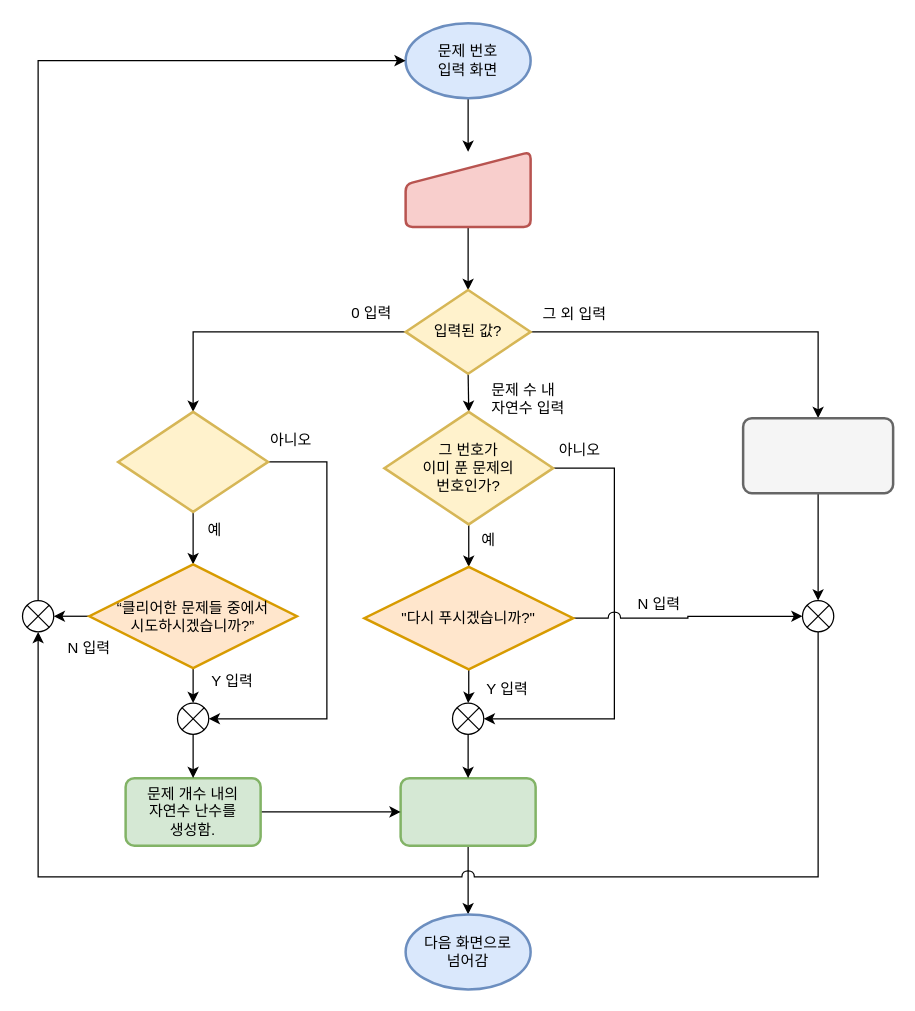
This 915x1011 diagram has some shape labels left out. Each missing label, with the centre of its shape:
"유효하지 않은 입력입니다.": point 817,455
그 값을 출력할 문제 번호로 설정: point 467,811
문제를 모두 풀었는가?: point 192,461
사용자의 키보드 입력: point 467,189
